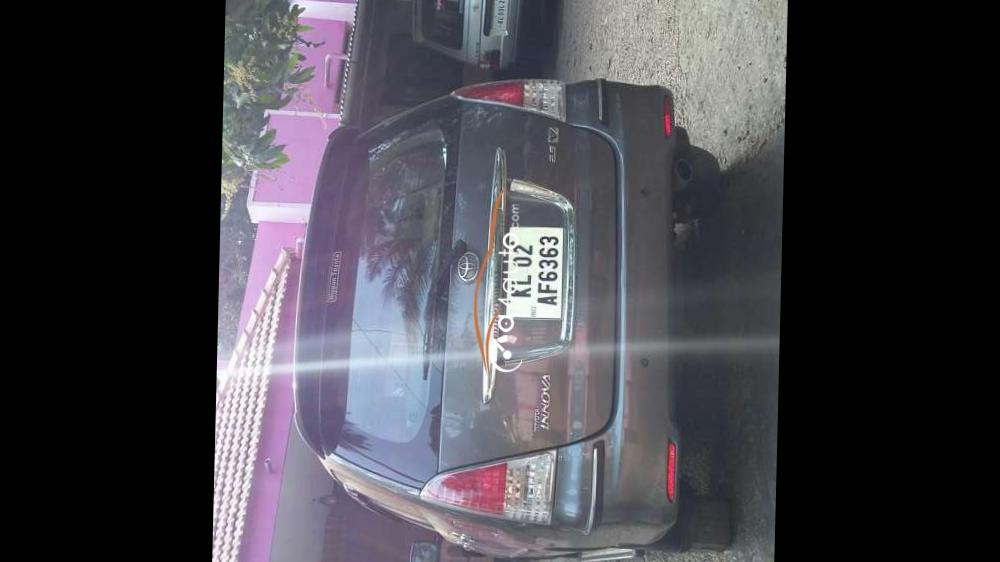plate: (494, 212, 576, 332)
